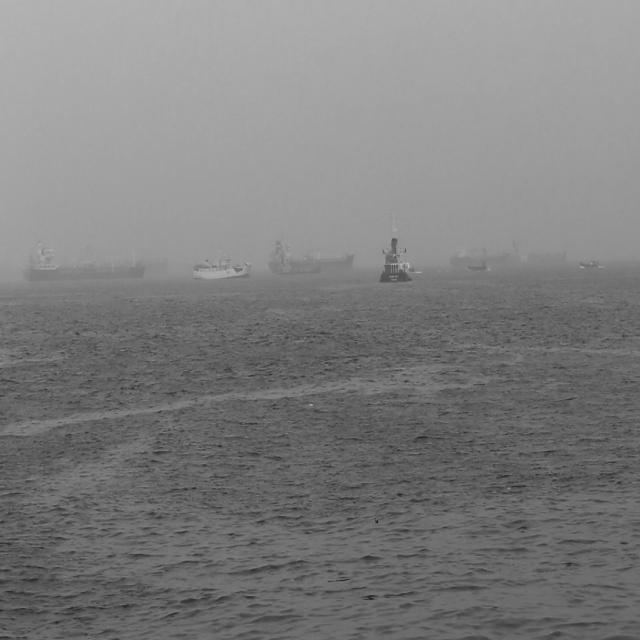ship: (25, 238, 146, 278), (268, 240, 354, 276), (382, 212, 412, 284), (193, 253, 254, 280), (448, 246, 516, 264), (579, 258, 600, 270), (467, 262, 488, 272)
